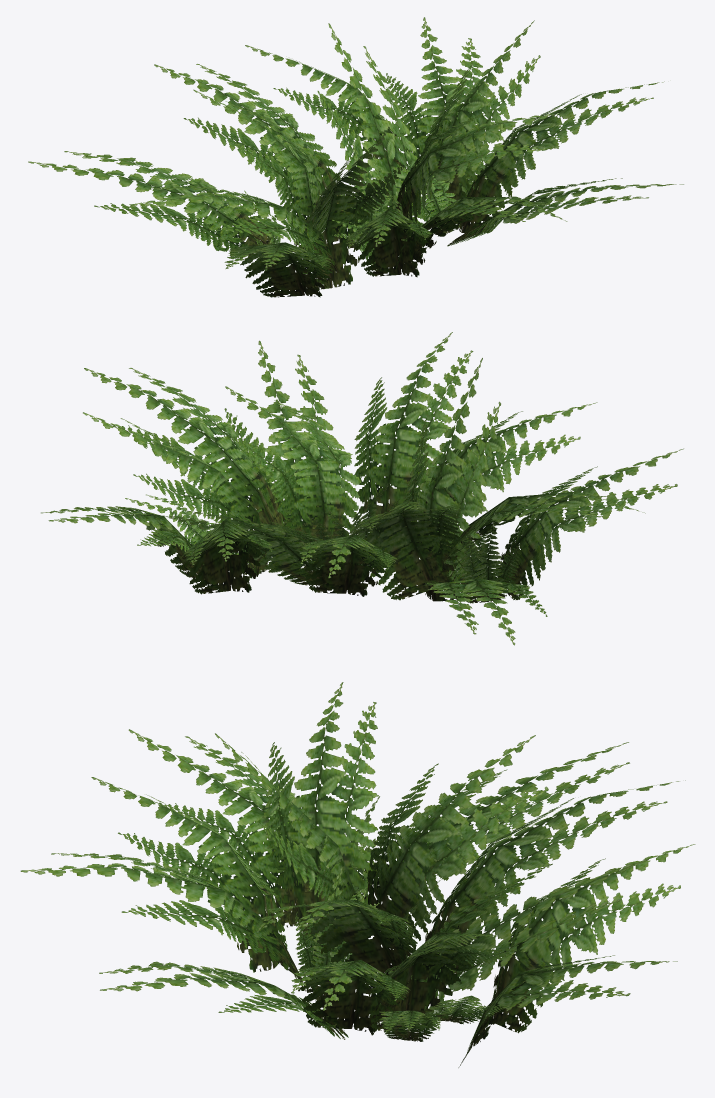
Rendered from Hangzhou_wj_047_1.FBX.
3 views of the same model, one above another, from view 1: azimuth 30°, elevation 25°; view 2: azimuth 150°, elevation 25°; view 3: azimuth 270°, elevation 25° (orthographic). The views are drawn at different scales.
Visible parts, largest first — view 1: 07ya; view 2: 07ya; view 3: 07ya.
Boxes of the visible parts, x1,y1,x2,y2 form: 07ya: [28, 17, 683, 297]; 07ya: [41, 332, 683, 645]; 07ya: [20, 682, 695, 1067].
Bounding box in the file's own units: 158 × 52.52 × 133.
